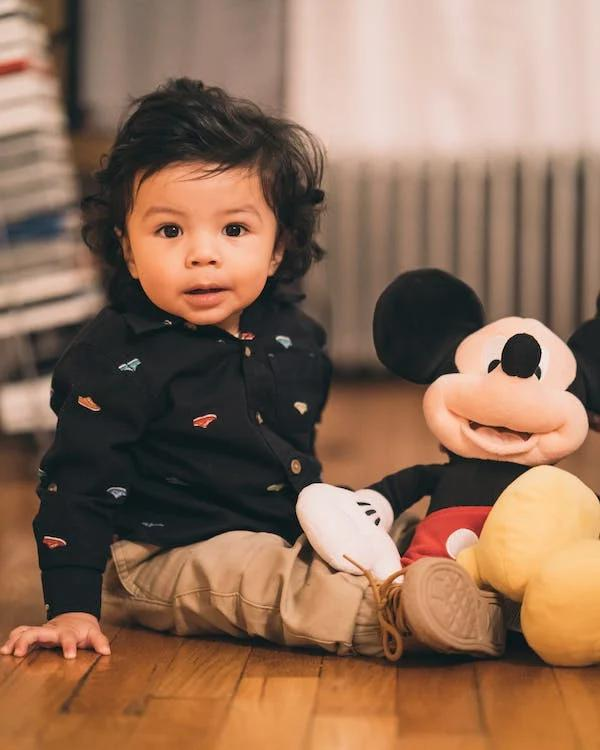child: (10, 80, 531, 702)
